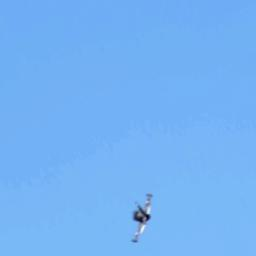Airplane: (126, 192, 156, 243)
